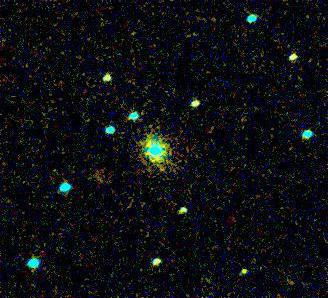star: (228, 258, 258, 288)
